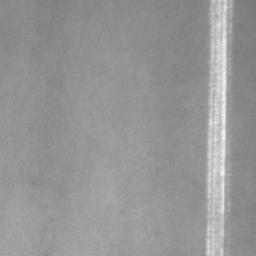Bright scratch: (205, 0, 229, 256)
